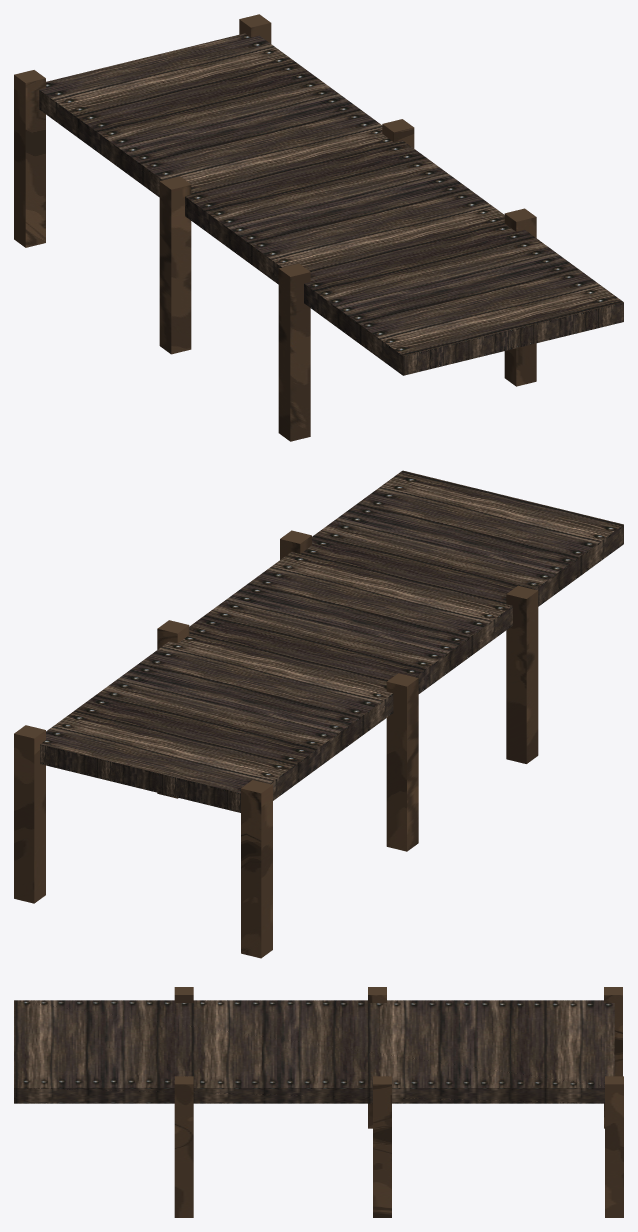
File: Ponton.fbx
3 views of the same model, one above another, from view 1: azimuth 30°, elevation 25°; view 2: azimuth 150°, elevation 25°; view 3: azimuth 270°, elevation 25° (orthographic). The views are drawn at different scales.
Parts seen in each view (by area): view 1: Cube; view 2: Cube; view 3: Cube.
Boxes of the visible parts, bbox=[...] form: Cube: bbox=[14, 14, 623, 441]; Cube: bbox=[14, 470, 623, 958]; Cube: bbox=[14, 987, 623, 1217].
Bounding box in the file's own units: 264 × 169 × 698.
